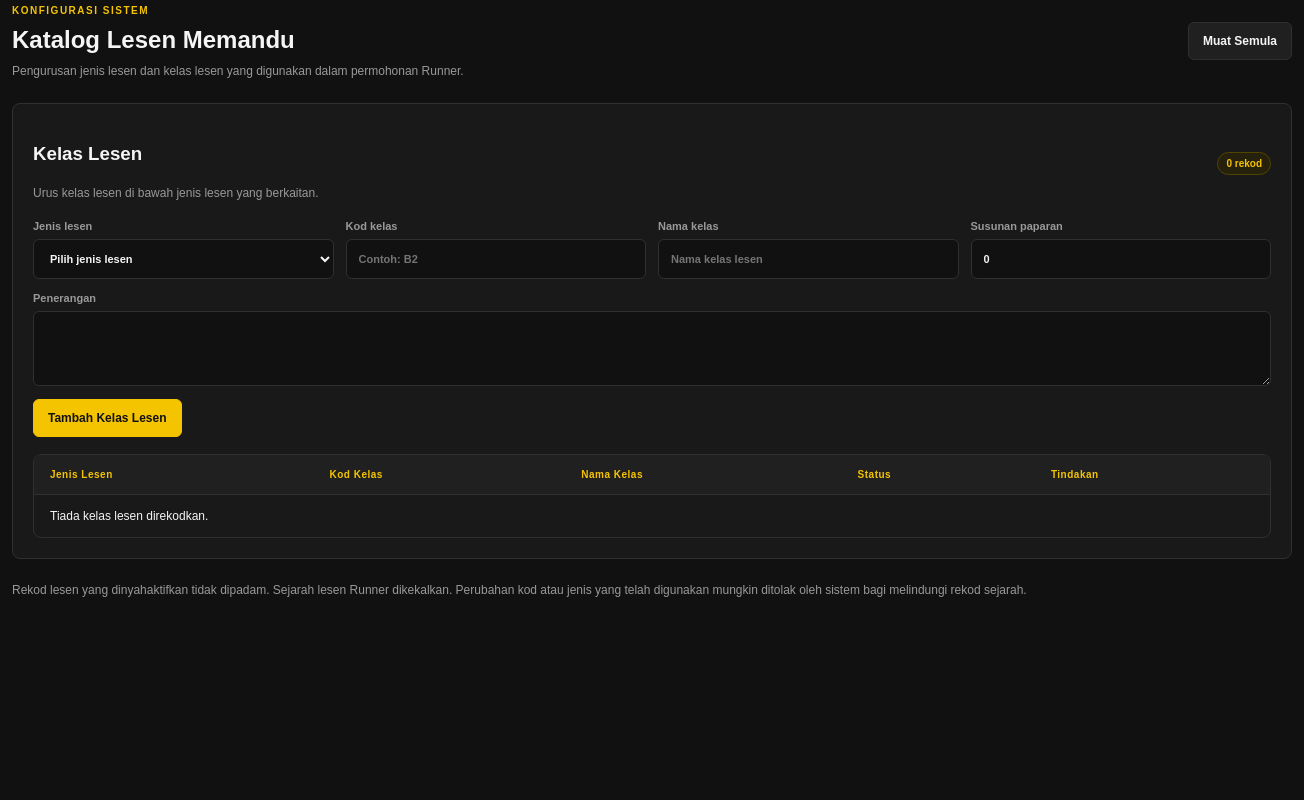
DrivingLicenseCatalogPage › menghantar kelas lesen dengan jenis dan kod yang betul
Expected: the heading "Kelas Lesen" is shown, [33,143,142,164]
Select "CDL — Competent Driving Licence" in the dropdown labelled "Jenis lesen" at [183, 259], box [33,239,334,279]
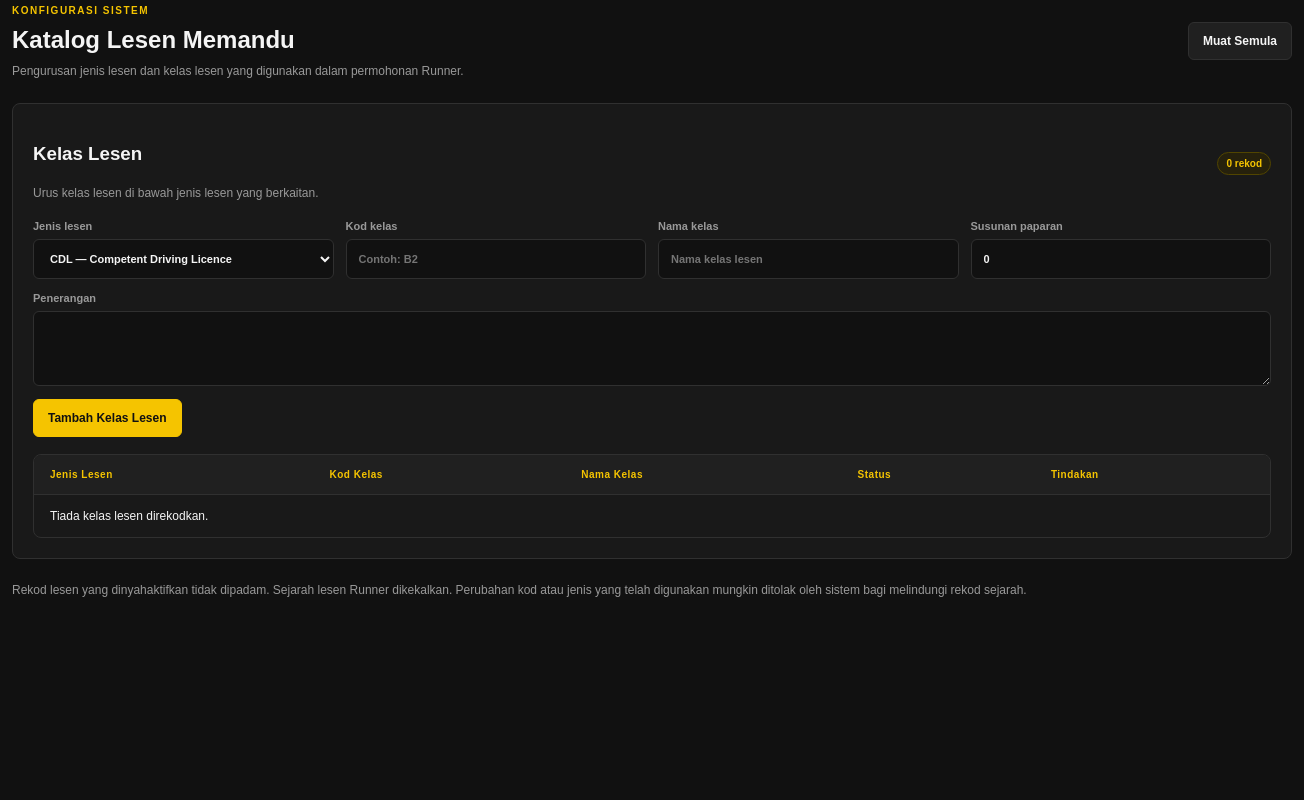
Type " b2 " into the field labelled "Kod kelas" at [496, 259], box [346,239,646,279]
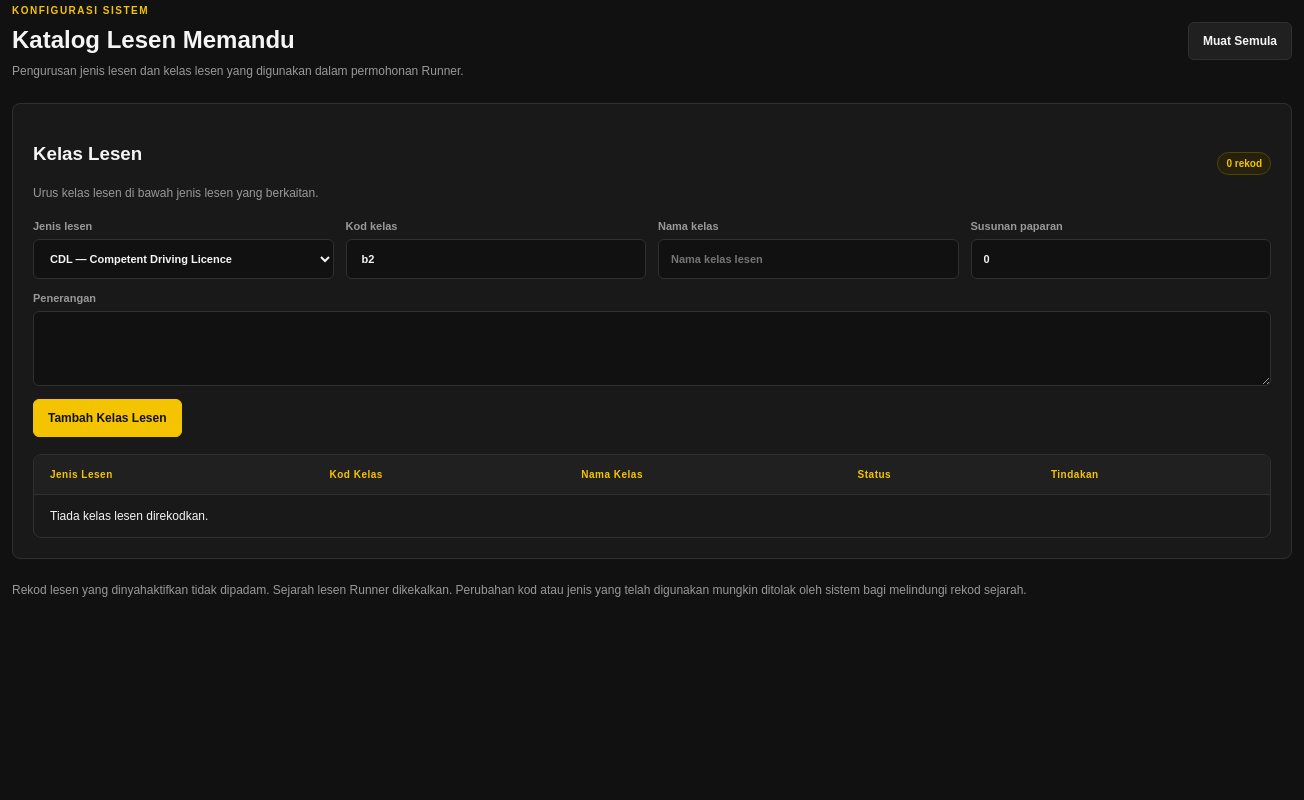
Type "Motosikal" into the field labelled "Nama kelas" at [808, 259], box [658,239,958,279]
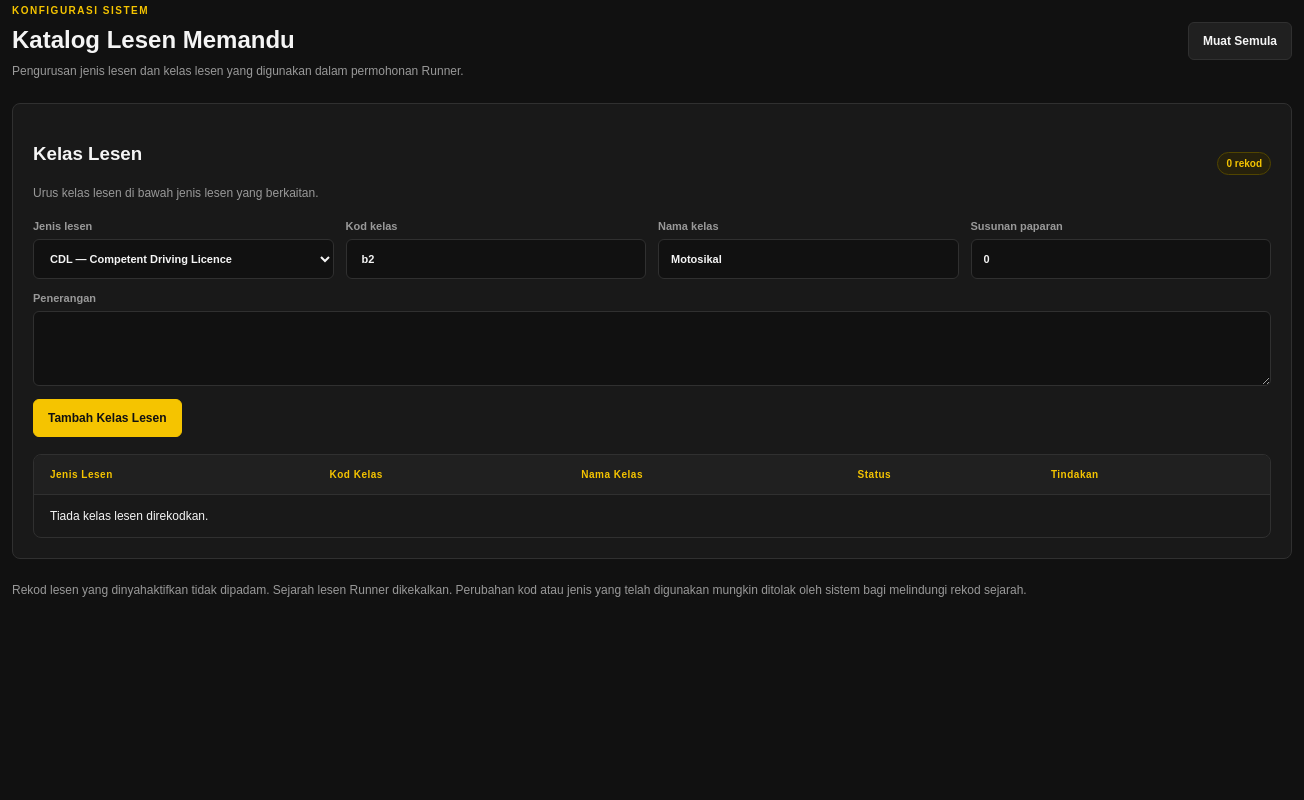
Click the button "Tambah Kelas Lesen" at [107, 418], box [33,399,182,437]
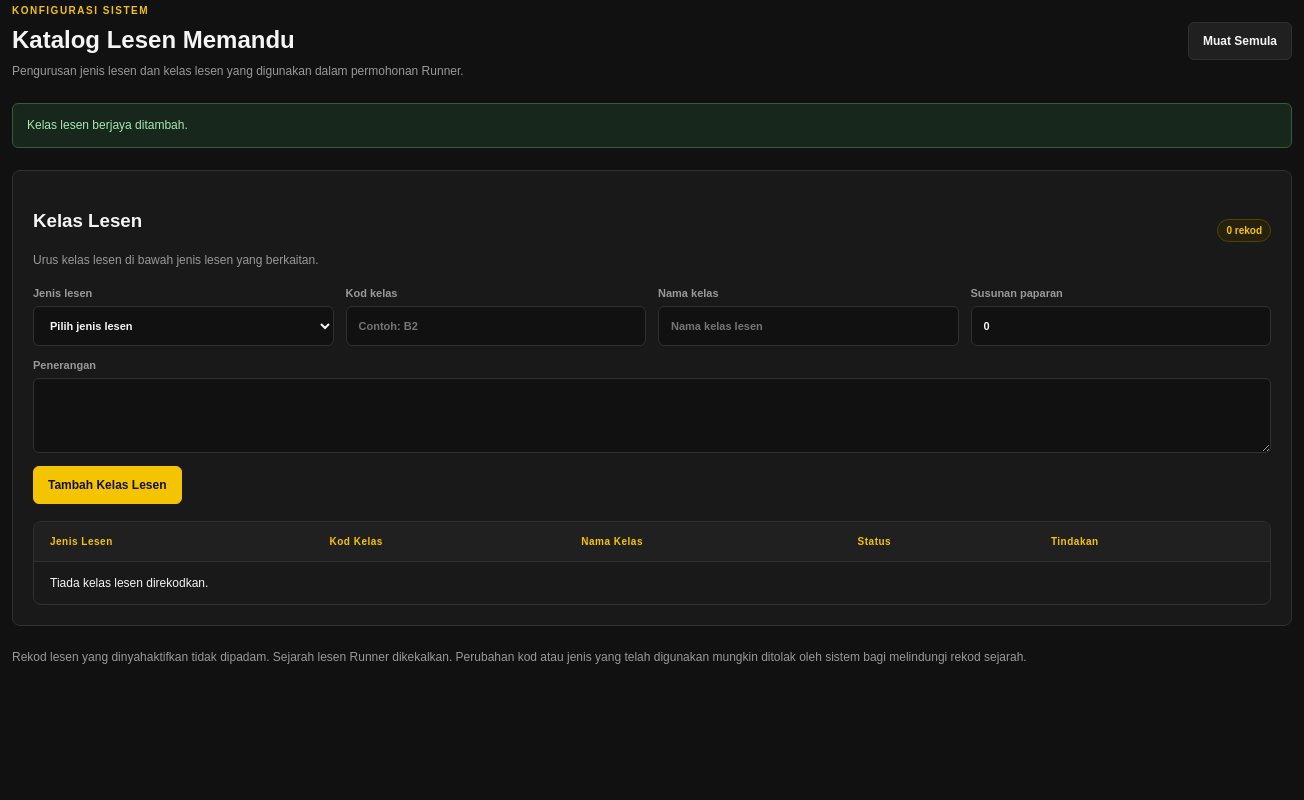
Expected: the text "Kelas lesen berjaya ditambah." is shown, [12,103,1292,148]
